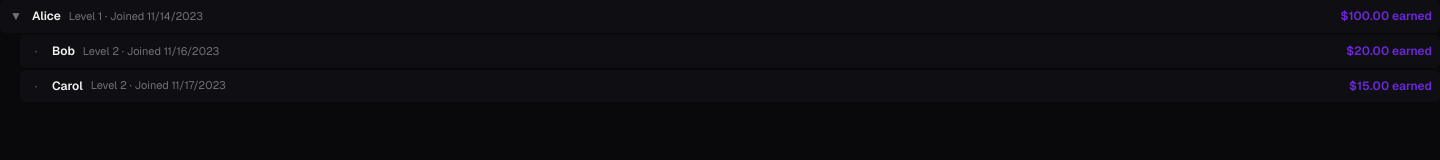
it: ReferralTree › collapses children when toggle is clicked
The width and height of the screenshot is (1440, 160).
// Alice toggle — click to collapse
Click the button "▼".
click(16, 16)  # box [8, 9, 24, 23]
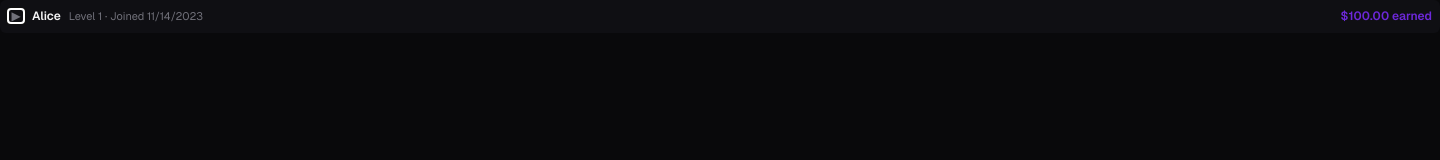
Now the text "Bob" is gone
Now the text "Carol" is gone
